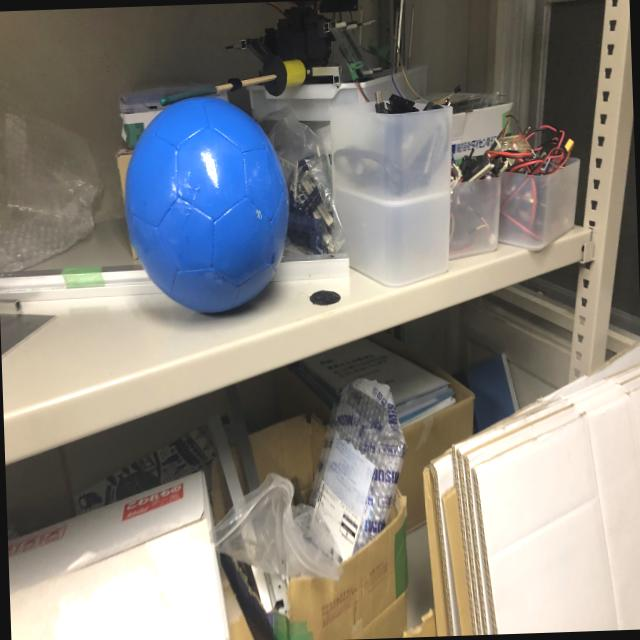blue_ball: (122, 92, 292, 318)
